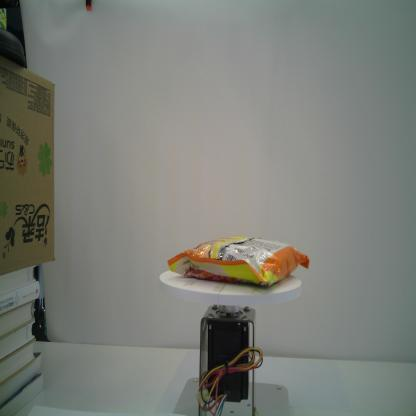Instant Noodles: (167, 236, 310, 287)
